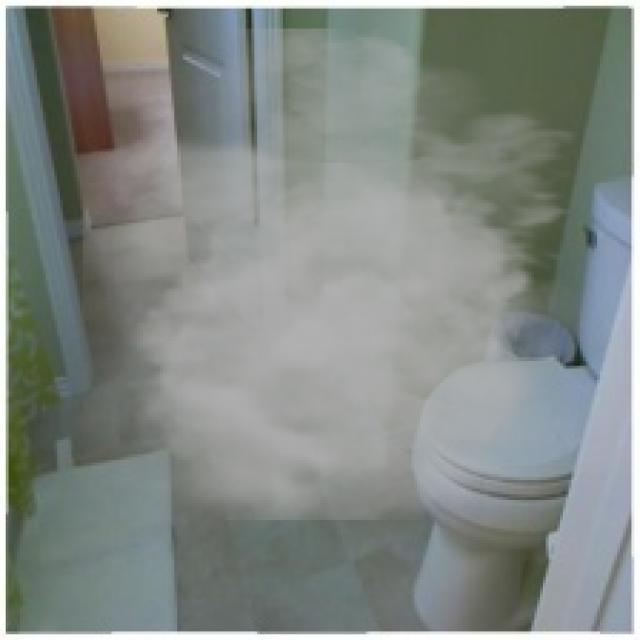Smoke: (82, 29, 628, 552)
